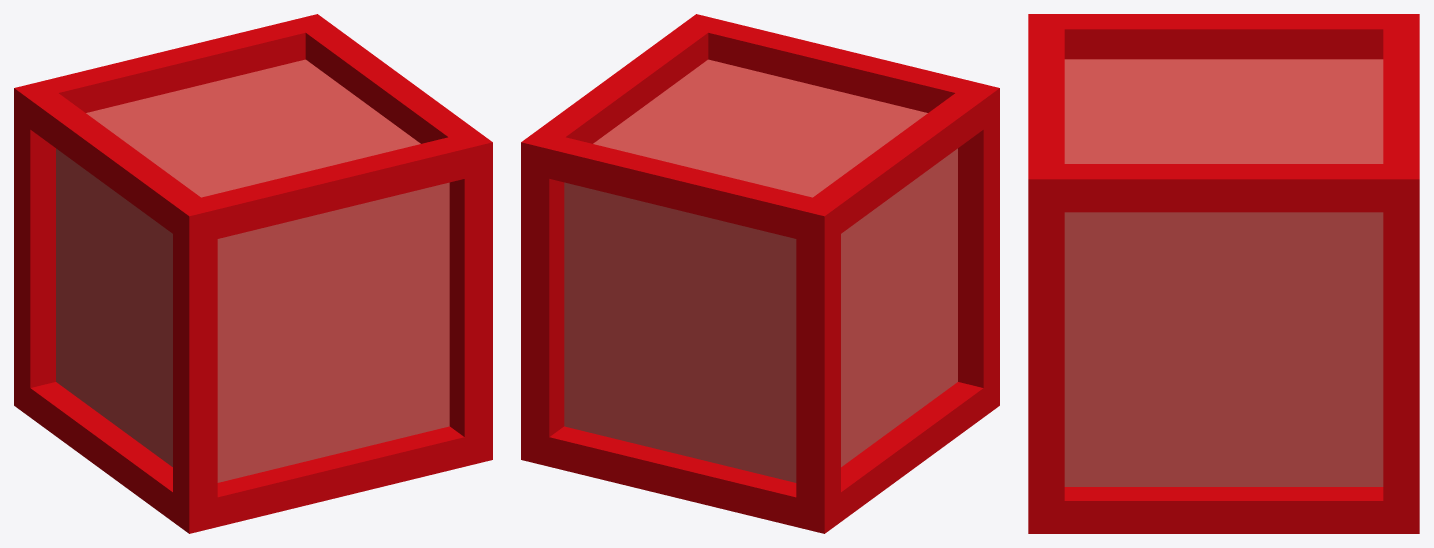
File: redbox.fbx
3 views of the same model, side by side, from view 1: azimuth 30°, elevation 25°; view 2: azimuth 150°, elevation 25°; view 3: azimuth 270°, elevation 25° (orthographic). The views are drawn at different scales.
Parts seen in each view (by area): view 1: Cube.001, Cube; view 2: Cube.001, Cube; view 3: Cube.001, Cube.
Boxes of the visible parts, left/top/right/bottom form: Cube.001: left=56, top=59, right=449, bottom=482; Cube: left=14, top=14, right=492, bottom=533; Cube.001: left=564, top=59, right=957, bottom=482; Cube: left=521, top=14, right=999, bottom=533; Cube.001: left=1064, top=59, right=1383, bottom=486; Cube: left=1028, top=14, right=1419, bottom=533.
Bounding box in the file's own units: 136 × 136 × 136.
